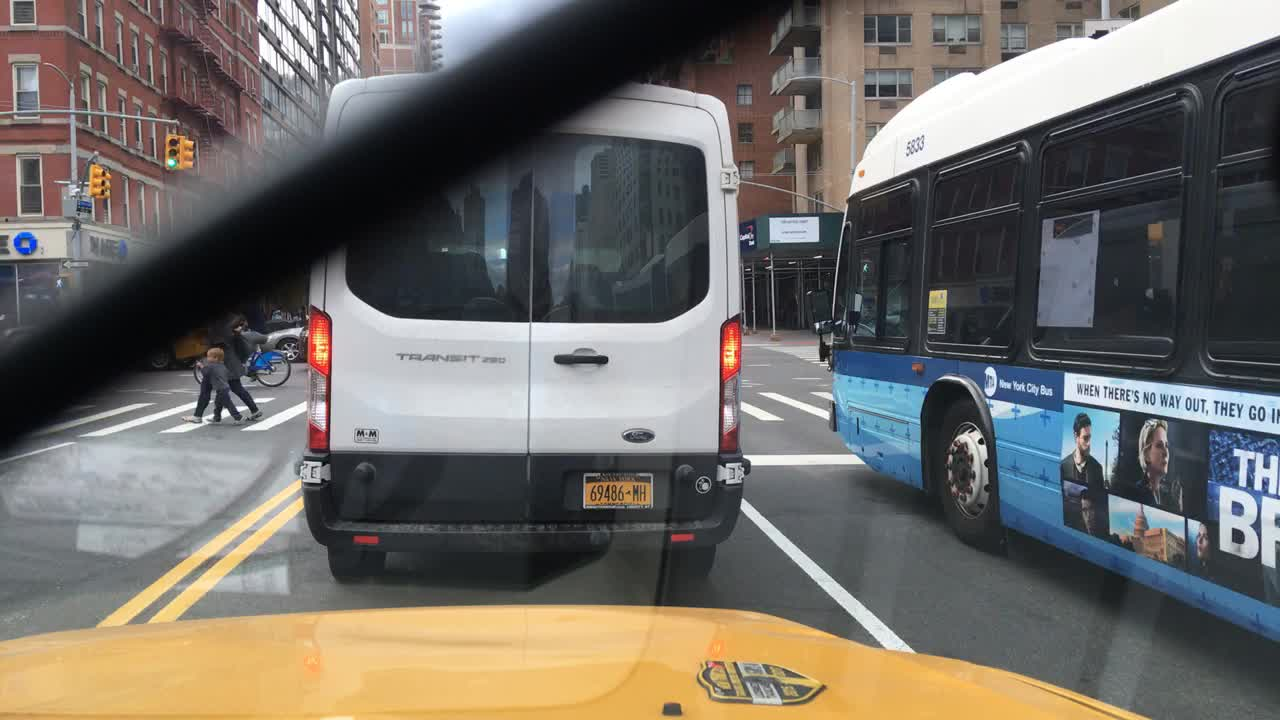bike: (191, 340, 292, 381)
bus: (804, 0, 1278, 643), (302, 72, 748, 584)
car: (141, 328, 221, 373), (261, 321, 311, 362)
person: (189, 317, 261, 421), (203, 342, 246, 421)
rider: (233, 321, 263, 371)
traffic light: (164, 134, 180, 172), (91, 162, 107, 200), (182, 139, 195, 170), (50, 276, 68, 291)
traffic sign: (63, 256, 87, 270), (74, 200, 91, 217)
